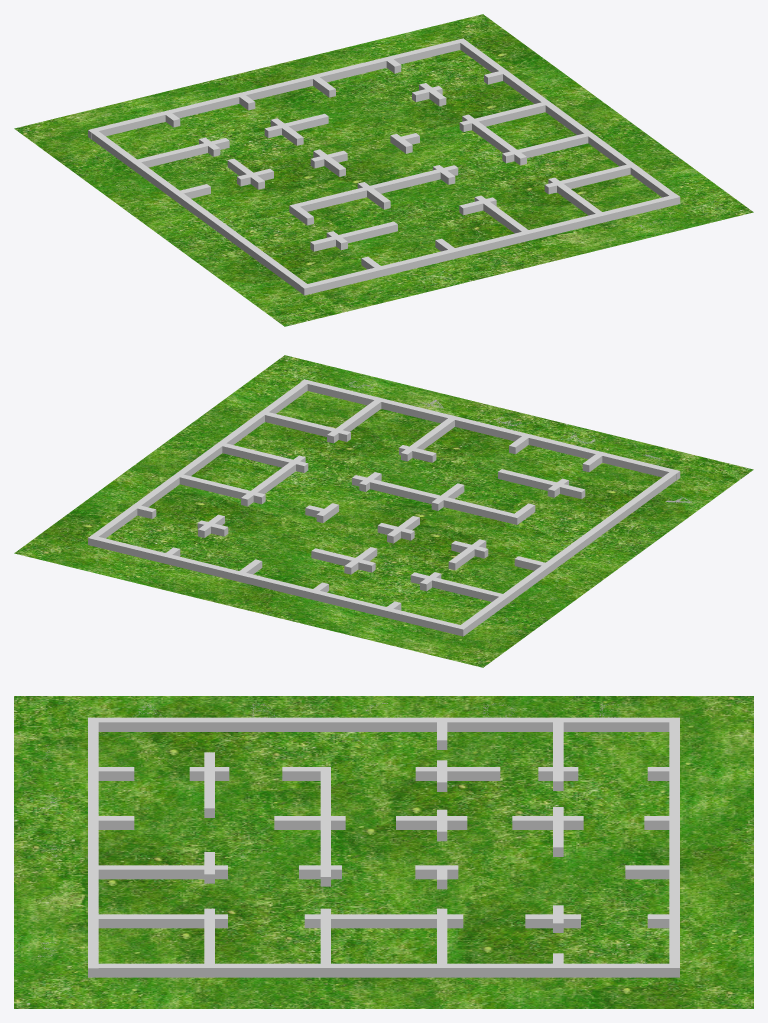
File: plateau.fbx
3 views of the same model, one above another, from view 1: azimuth 30°, elevation 25°; view 2: azimuth 150°, elevation 25°; view 3: azimuth 270°, elevation 25° (orthographic). The views are drawn at different scales.
Visible parts, largest first — view 1: Plane, Cube.002, Cube.003, Cube.001, Cube, Cube.028, Cube.026, Cube.019, Cube.015, Cube.004, Cube.013, Cube.016 (+3 smaller); view 2: Plane, Cube.003, Cube.002, Cube.001, Cube, Cube.028, Cube.026, Cube.019, Cube.015, Cube.004, Cube.013, Cube.016 (+3 smaller); view 3: Plane, Cube, Cube.001, Cube.002, Cube.003, Cube.016, Cube.011, Cube.014, Cube.028, Cube.025, Cube.035, Cube.030 (+12 smaller).
Part boxes in pixels (x1,y1,x2,y2): Plane: [14, 14, 753, 326]; Cube.002: [300, 194, 680, 295]; Cube.003: [88, 38, 466, 139]; Cube.001: [90, 130, 308, 292]; Cube: [460, 40, 677, 197]; Cube.028: [289, 165, 458, 214]; Cube.026: [136, 138, 229, 167]; Cube.019: [310, 221, 397, 251]; Cube.015: [459, 102, 546, 131]; Cube.004: [502, 133, 589, 163]; Cube.013: [544, 164, 631, 194]; Cube.016: [462, 114, 526, 165]; Plane: [14, 355, 753, 667]; Cube.003: [88, 535, 467, 636]; Cube.002: [301, 379, 680, 480]; Cube.001: [459, 472, 675, 633]; Cube: [90, 381, 308, 538]; Cube.028: [352, 475, 520, 524]; Cube.026: [410, 572, 502, 601]; Cube.019: [498, 469, 585, 499]; Cube.015: [179, 474, 265, 504]; Cube.004: [222, 443, 308, 472]; Cube.013: [264, 412, 350, 441]; Cube.016: [241, 455, 305, 506]; Plane: [14, 696, 753, 1008]; Cube: [93, 963, 674, 977]; Cube.001: [93, 717, 674, 731]; Cube.002: [88, 717, 98, 977]; Cube.003: [669, 717, 679, 977]; Cube.016: [304, 914, 463, 928]; Cube.011: [96, 865, 227, 879]; Cube.014: [96, 914, 227, 928]; Cube.028: [320, 767, 330, 886]; Cube.025: [415, 767, 500, 780]; Cube.035: [512, 816, 583, 829]; Cube.030: [274, 816, 345, 829].
Bounding box in the file's own units: 1400 × 20 × 1400.
Materials: 3 (1 with a texture image).
